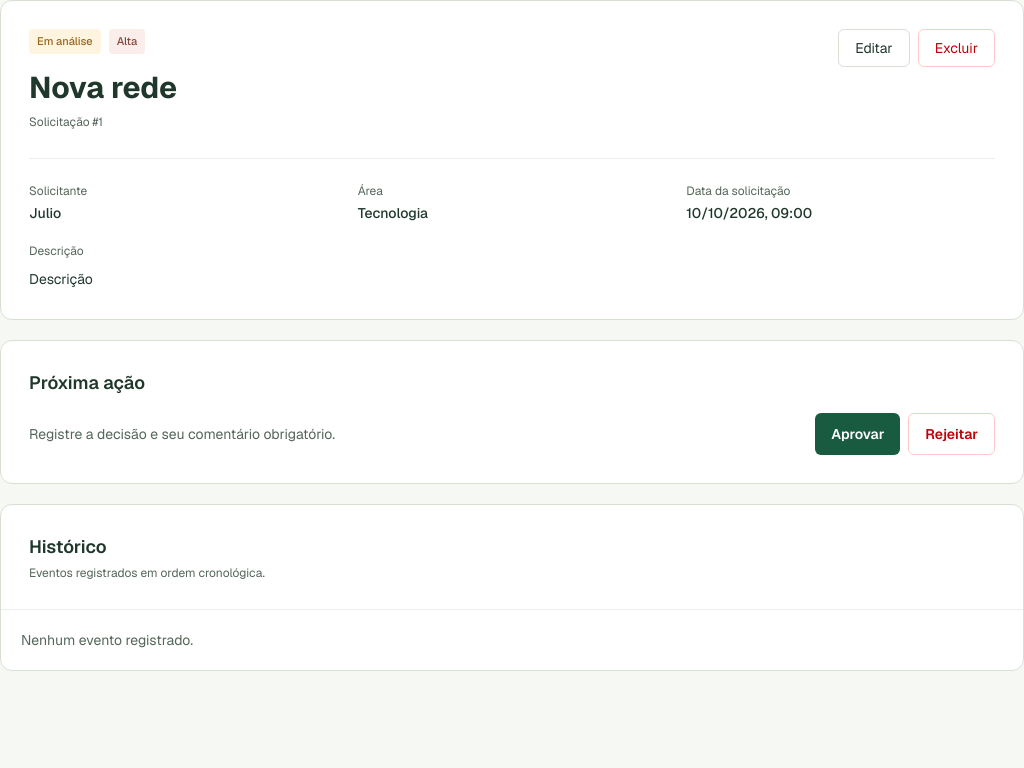
Scenario: DetalhesSolicitacao › fecha o diálogo com Escape e devolve o foco ao acionador
Click the button "Aprovar" at (858, 434), box [815,412,900,454]
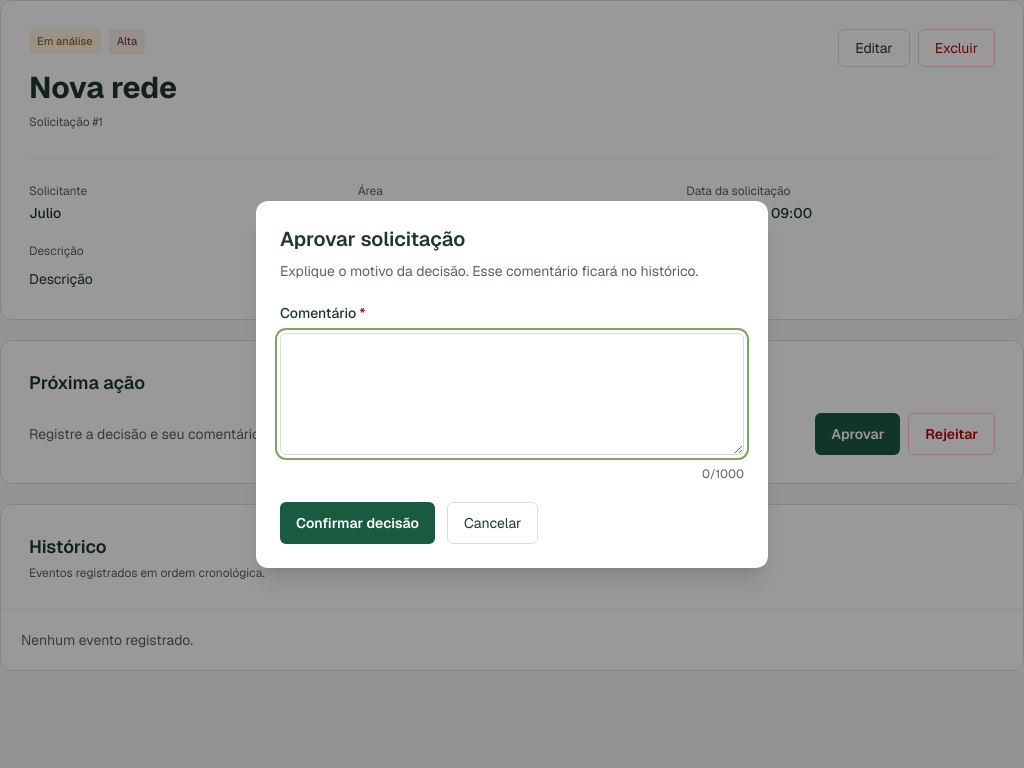
Press Escape in the dialog, box [256,200,768,568]
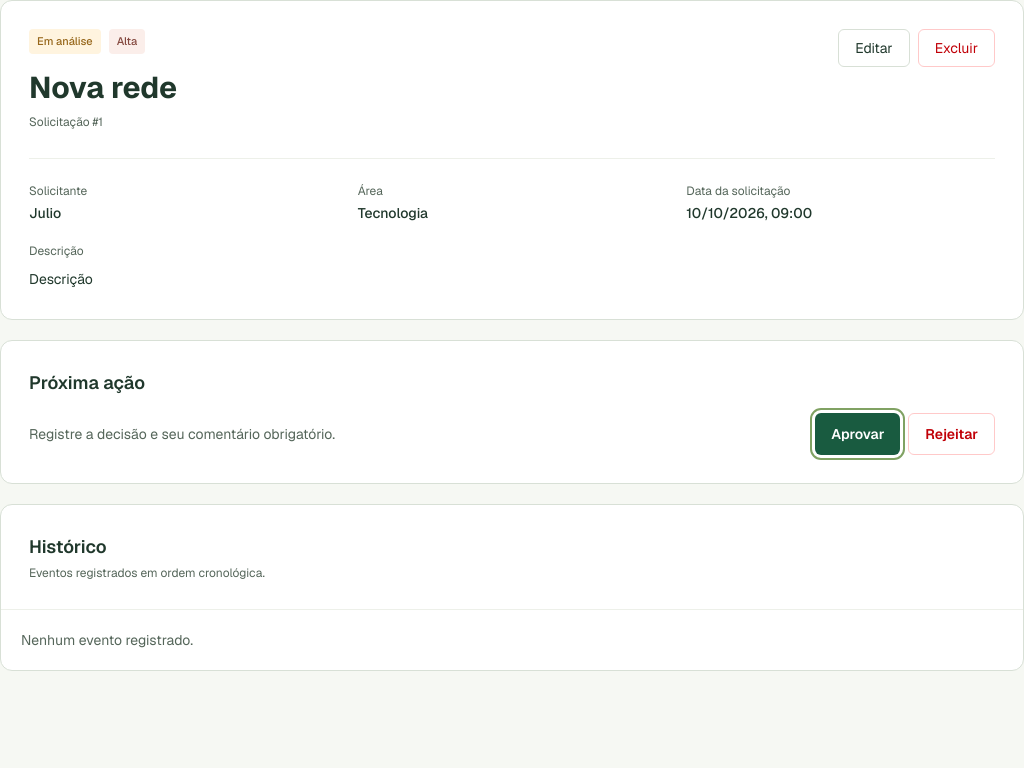
Expected: the dialog is gone
